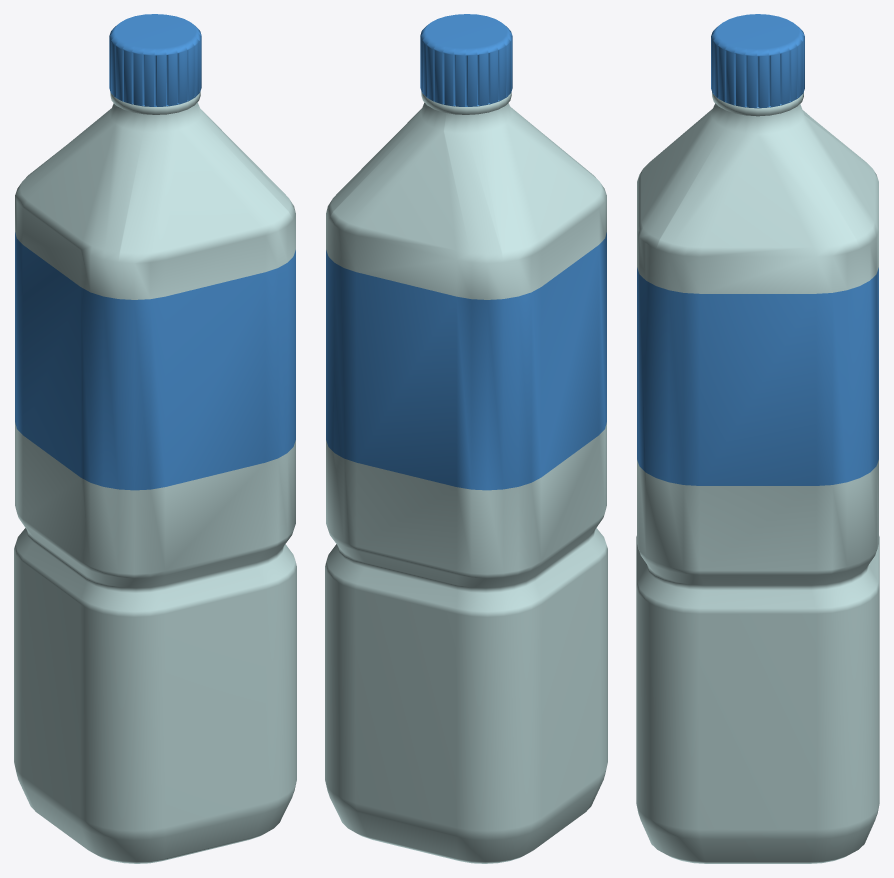
File: emoji_2.glb
The picture shows the model from 3 angles, left to right: view 1: azimuth 30°, elevation 25°; view 2: azimuth 150°, elevation 25°; view 3: azimuth 270°, elevation 25°; orthographic projection.
Visible parts, largest first — view 1: petbottle.003; view 2: petbottle.003; view 3: petbottle.003.
Part boxes in pixels (x1,y1,x2,y2): petbottle.003: (14,14,296,863); petbottle.003: (325,14,607,863); petbottle.003: (636,14,879,863).
Size of the model in its own units: 0.1874 by 0.6704 by 0.1874.
Materials: 1 (1 with a texture image).
